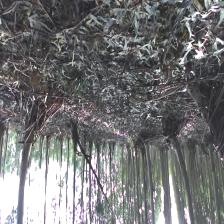trunk: (174, 138, 194, 222), (17, 137, 34, 221), (208, 144, 220, 219), (145, 143, 155, 221)
